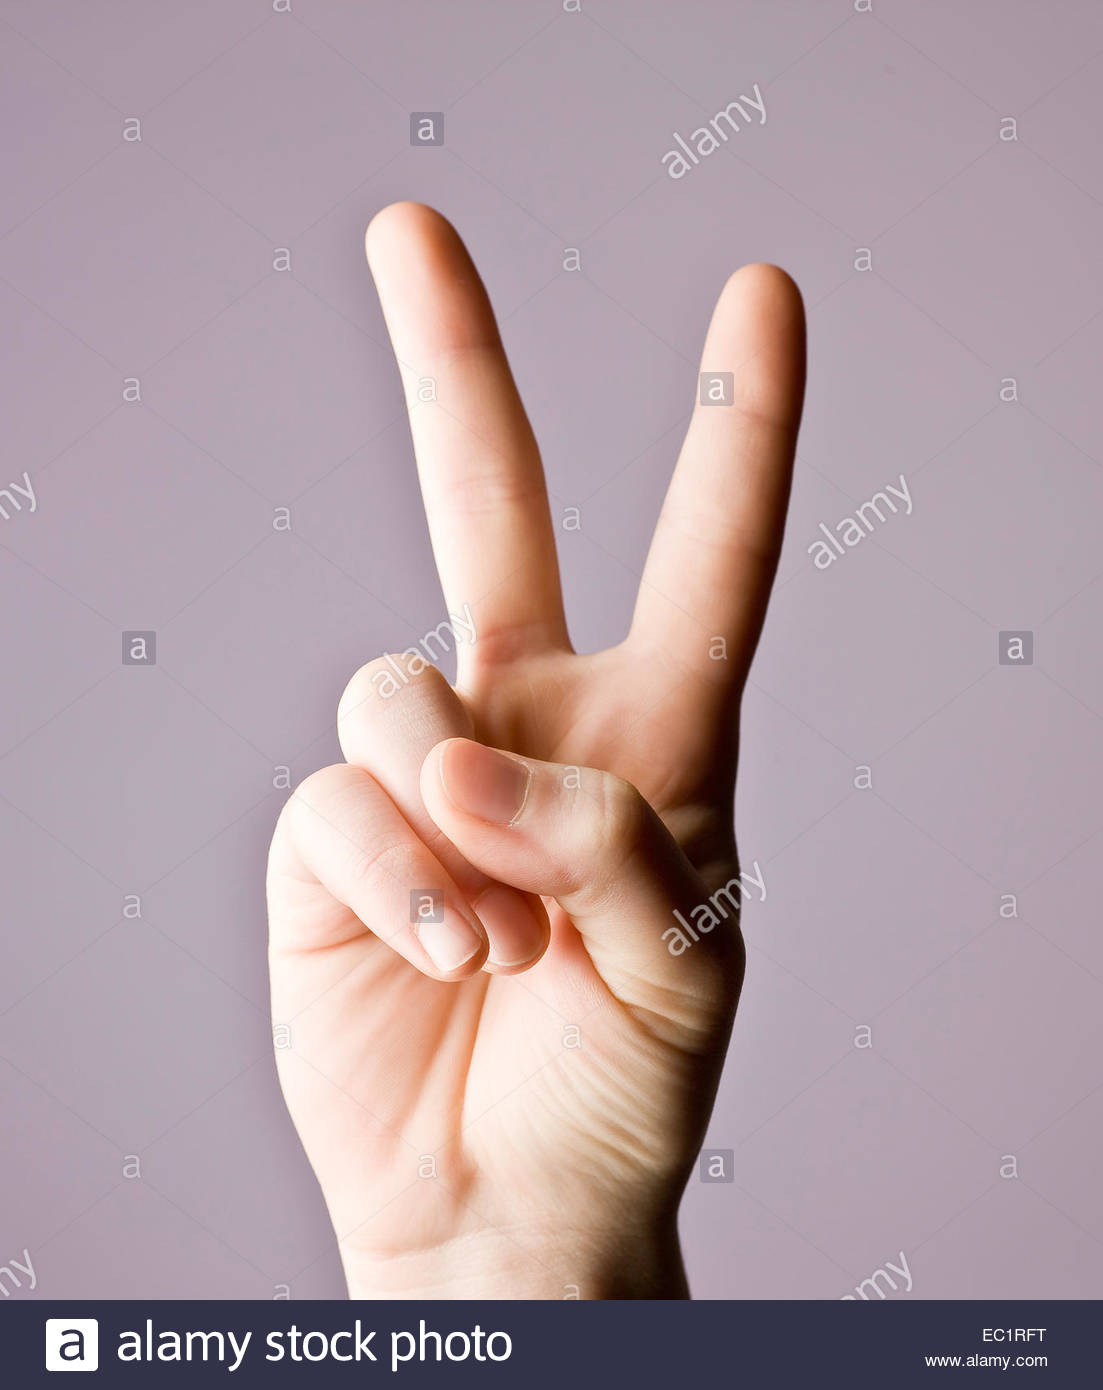v_s: (194, 171, 815, 1261)
